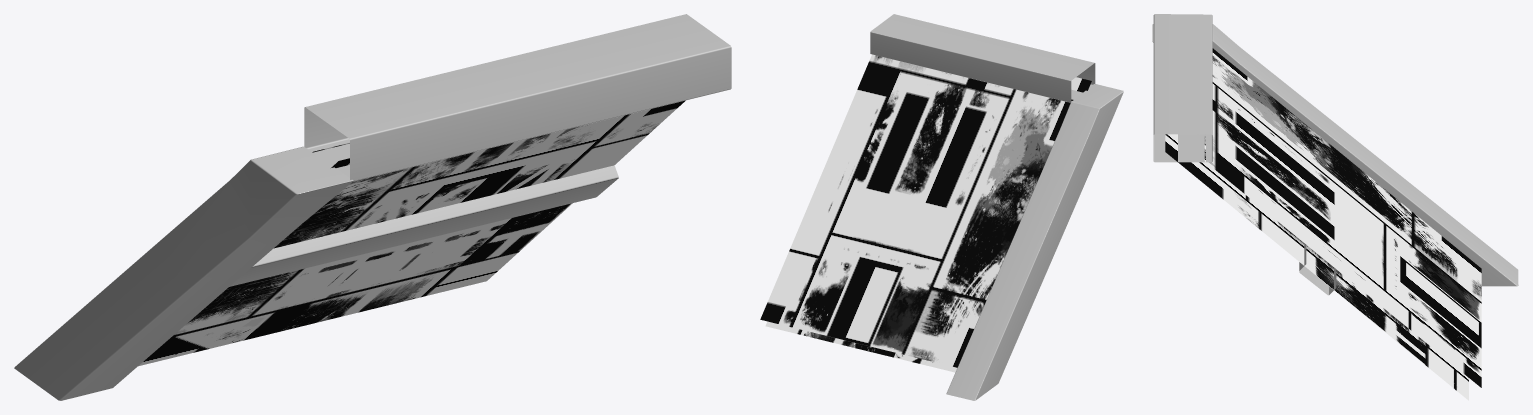
File: SM_wall01_Wall_023.fbx
3 views of the same model, side by side, from view 1: azimuth 30°, elevation 25°; view 2: azimuth 150°, elevation 25°; view 3: azimuth 270°, elevation 25° (orthographic). The views are drawn at different scales.
Parts seen in each view (by area): view 1: SM_wall01_Wall_023_LOD0; view 2: SM_wall01_Wall_023_LOD0; view 3: SM_wall01_Wall_023_LOD0.
Boxes of the visible parts, left/top/right/bottom form: SM_wall01_Wall_023_LOD0: left=14, top=14, right=731, bottom=400; SM_wall01_Wall_023_LOD0: left=760, top=14, right=1123, bottom=400; SM_wall01_Wall_023_LOD0: left=1152, top=14, right=1518, bottom=400.
Size of the model in its own units: 150 by 169 by 139.
